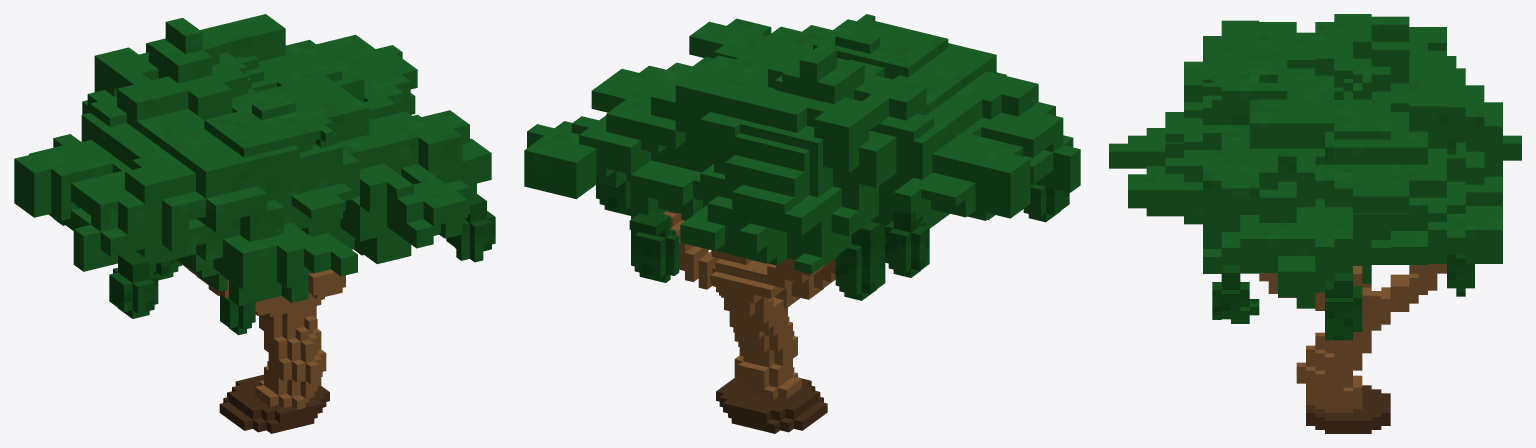
Rendered from 2_0 gravi.obj.
3 renders of one model, left to right at view 1: azimuth 30°, elevation 25°; view 2: azimuth 150°, elevation 25°; view 3: azimuth 270°, elevation 25°, orthographic. The views are drawn at different scales.
Size of the model in its own units: 5 by 4.3 by 4.4.
Materials: 1 (1 with a texture image).
